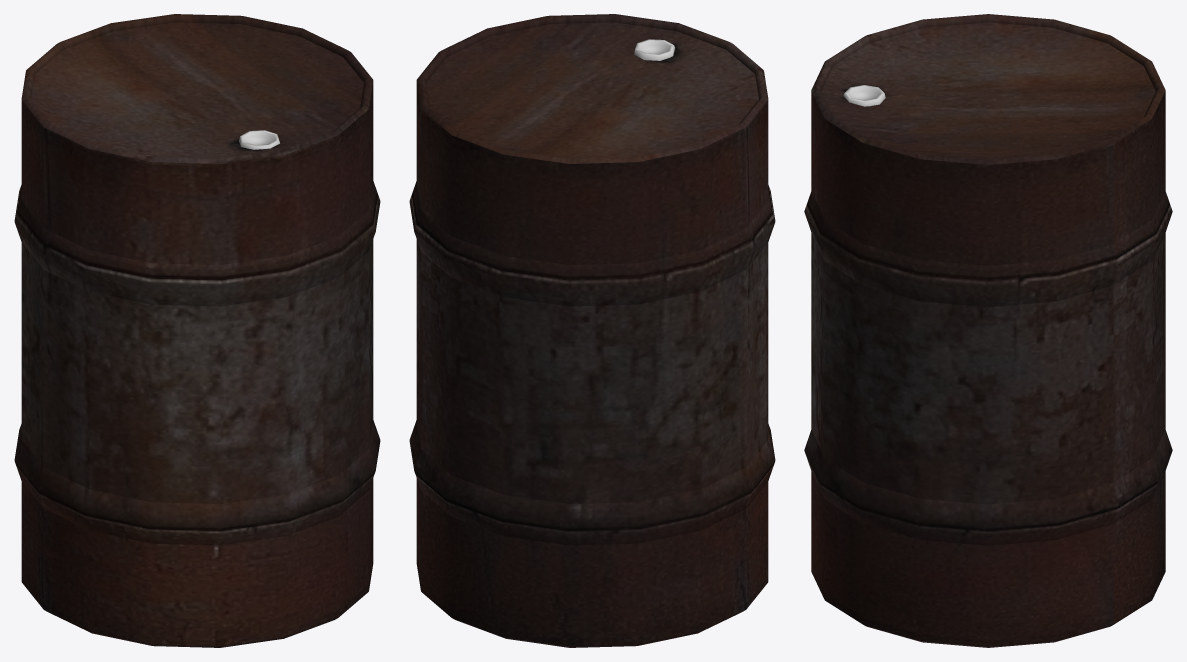
Rendered from metal_barrel_4.obj.
The picture shows the model from 3 angles, left to right: view 1: azimuth 30°, elevation 25°; view 2: azimuth 150°, elevation 25°; view 3: azimuth 270°, elevation 25°; orthographic projection.
Visible parts, largest first — view 1: metal_barrel_4; view 2: metal_barrel_4; view 3: metal_barrel_4.
Part boxes in pixels (bbox=[...]): metal_barrel_4: bbox=[14, 14, 380, 647]; metal_barrel_4: bbox=[409, 14, 775, 647]; metal_barrel_4: bbox=[804, 14, 1172, 647].
Bounding box in the file's own units: 0.7488 × 1.09 × 0.7488.
